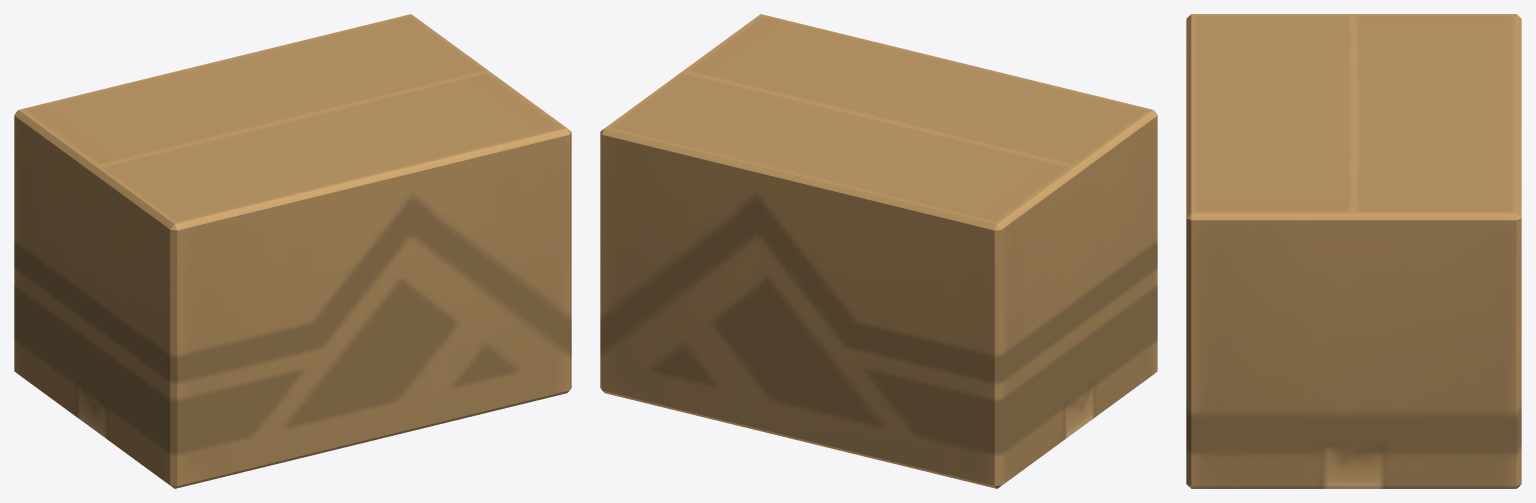
Rendered from Cardboard_01_02.fbx.
The picture shows the model from 3 angles, left to right: view 1: azimuth 30°, elevation 25°; view 2: azimuth 150°, elevation 25°; view 3: azimuth 270°, elevation 25°; orthographic projection. The views are drawn at different scales.
Parts seen in each view (by area): view 1: body01, huta01, huta02; view 2: body01, huta02, huta01; view 3: body01, huta01, huta02.
Boxes of the visible parts, x1,y1,x2,y2 form: body01: [14, 110, 571, 488]; huta01: [97, 71, 566, 223]; huta02: [19, 14, 488, 166]; body01: [600, 110, 1157, 488]; huta02: [605, 71, 1074, 223]; huta01: [683, 14, 1152, 166]; body01: [1186, 14, 1521, 488]; huta01: [1191, 14, 1353, 213]; huta02: [1354, 14, 1516, 213].
Size of the model in its own units: 46 by 29 by 32.
